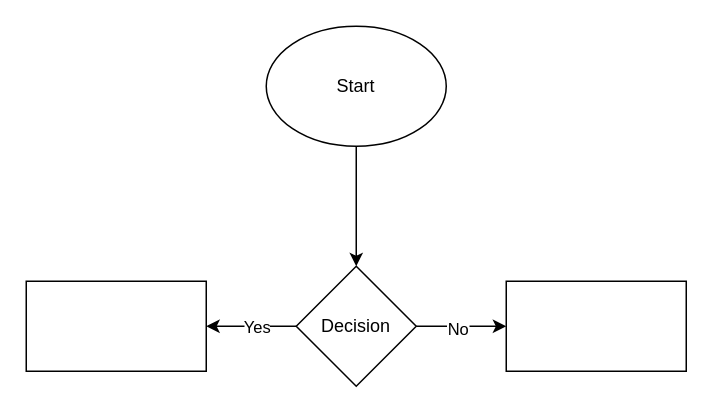
Image size: 713x413. Some labels were removed from this diagram. Each missing label, with the centre of its shape:
"Process if the answer is no" goes at point 595,325.
"Process if the answer is yes" goes at point 115,325.
